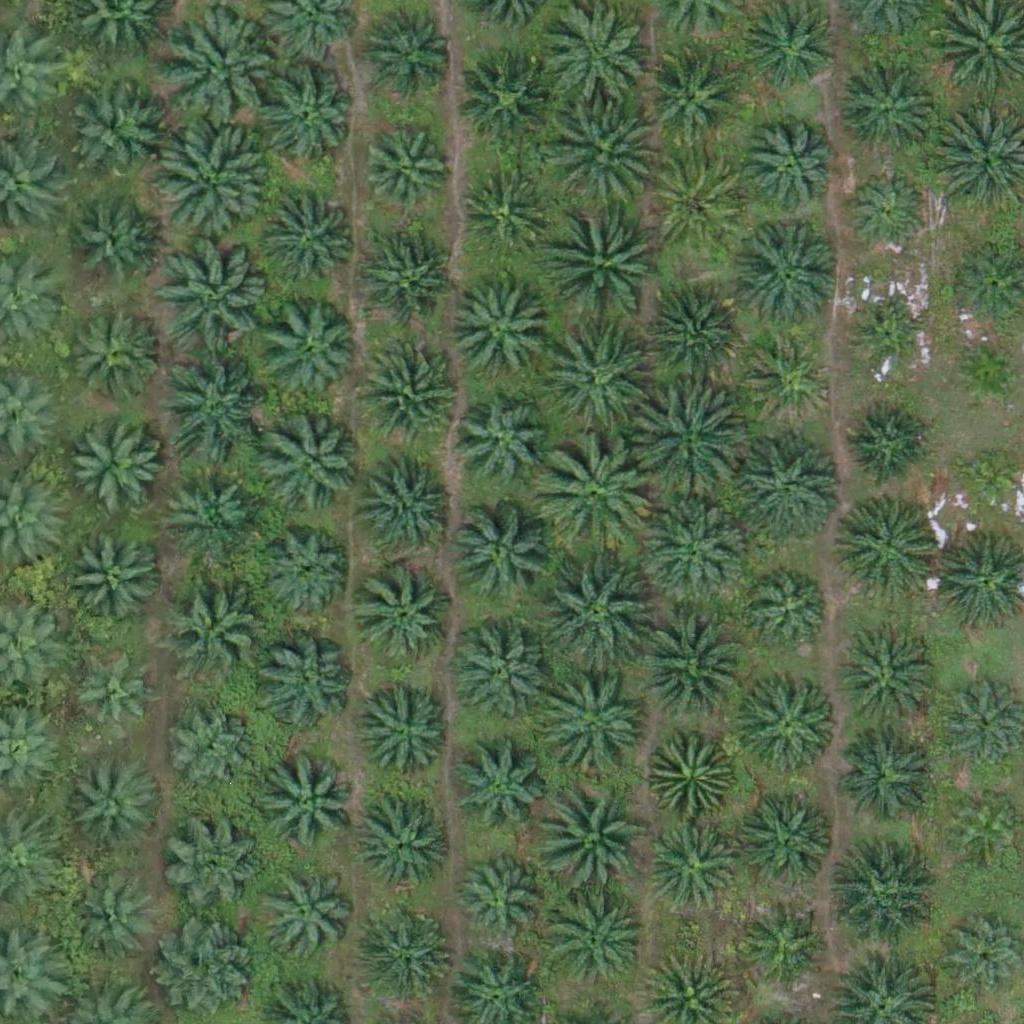Kelapa_Sawit: (536, 324, 649, 438), (545, 96, 658, 210), (541, 671, 654, 784), (540, 555, 653, 668), (539, 4, 652, 117), (153, 124, 266, 237), (166, 8, 279, 121), (641, 492, 753, 606), (547, 199, 659, 313), (154, 351, 266, 464), (540, 885, 652, 998), (535, 775, 647, 888), (538, 438, 650, 551), (628, 386, 740, 499), (633, 607, 745, 720), (731, 427, 843, 540), (822, 838, 934, 951), (730, 217, 842, 330), (160, 240, 272, 353), (54, 76, 166, 189), (63, 530, 163, 631), (65, 411, 165, 512), (61, 302, 161, 403), (160, 463, 260, 564), (163, 574, 263, 675), (162, 812, 262, 913), (160, 916, 260, 1017), (257, 297, 357, 398), (263, 751, 363, 852), (256, 866, 356, 967), (353, 794, 453, 895), (355, 565, 455, 666), (356, 341, 456, 442), (453, 392, 553, 493), (451, 502, 551, 603), (446, 738, 546, 839), (738, 793, 838, 894), (737, 669, 837, 770), (839, 633, 939, 734), (837, 724, 937, 825), (837, 57, 937, 158), (739, 116, 839, 217), (642, 44, 742, 145), (358, 229, 458, 330), (257, 62, 357, 163), (255, 188, 355, 289), (262, 416, 362, 516), (253, 633, 353, 733), (361, 905, 461, 1005), (356, 681, 456, 781), (363, 452, 463, 552), (447, 283, 547, 383), (450, 620, 550, 720), (643, 287, 743, 387), (836, 495, 936, 595), (648, 153, 748, 253), (459, 49, 559, 149), (72, 756, 160, 844), (167, 706, 255, 794), (650, 819, 738, 907), (744, 894, 832, 982), (842, 170, 930, 258), (745, 2, 833, 90), (458, 168, 546, 256), (360, 130, 448, 218), (68, 197, 156, 285), (66, 649, 153, 738), (745, 335, 832, 423), (67, 877, 154, 965), (262, 527, 349, 615), (456, 852, 543, 940), (648, 727, 735, 815), (749, 569, 836, 657), (844, 399, 931, 487), (948, 334, 1023, 410), (854, 305, 929, 380)
